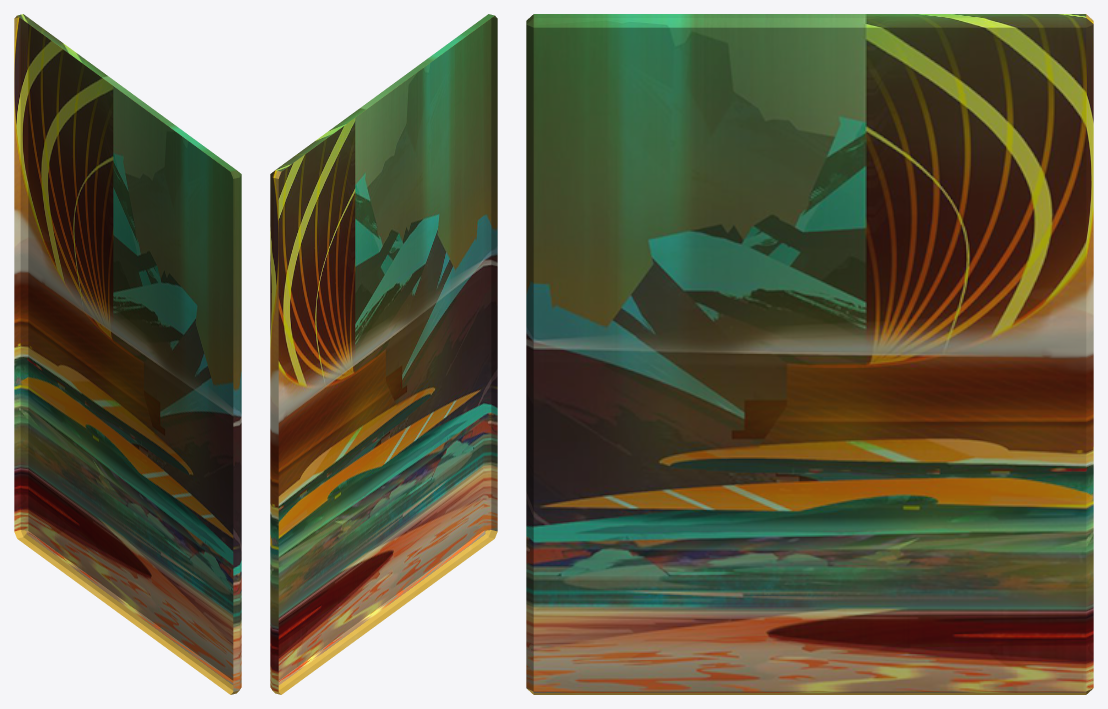
File: salotto_quadro.fbx
3 renders of one model, left to right at view 1: azimuth 30°, elevation 25°; view 2: azimuth 150°, elevation 25°; view 3: azimuth 270°, elevation 25°, orthographic. The views are drawn at different scales.
Parts seen in each view (by area): view 1: Quadro; view 2: Quadro; view 3: Quadro.
Part boxes in pixels (x1=…): Quadro: x1=14, y1=14, x2=241, y2=694; Quadro: x1=270, y1=14, x2=497, y2=694; Quadro: x1=526, y1=14, x2=1093, y2=694.
Bounding box in the file's own units: 2.29 × 102 × 77.37.
